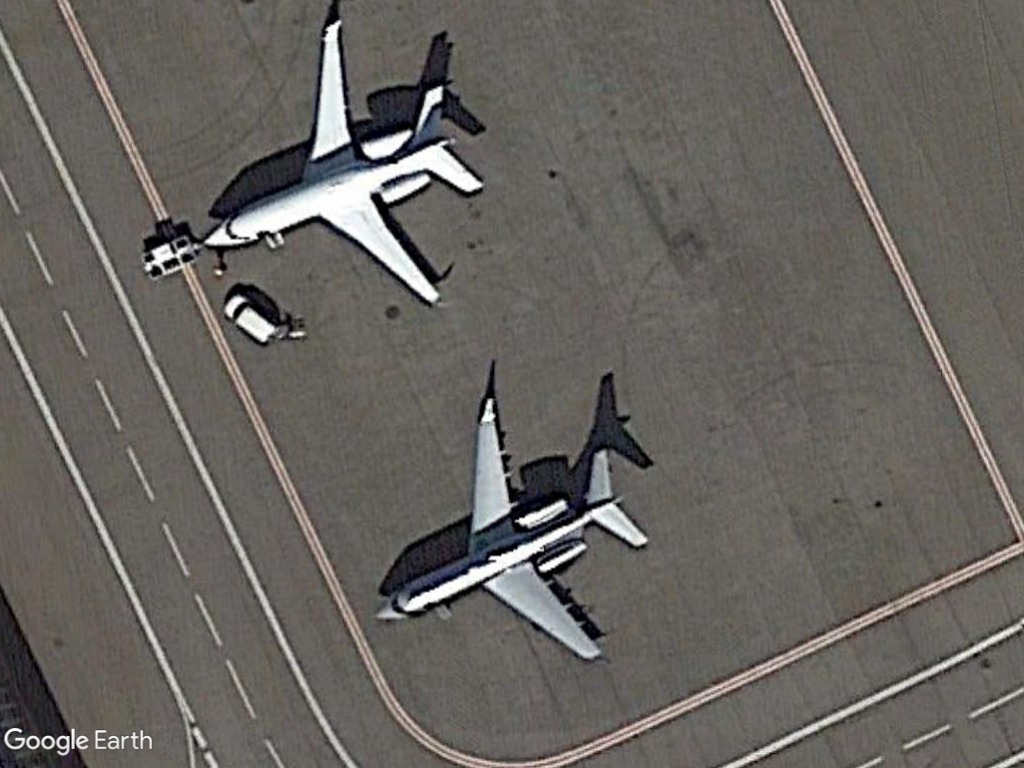chartered: (202, 14, 486, 314), (351, 392, 661, 662)
pushbacktruck: (132, 233, 203, 282)
van: (218, 292, 285, 350)
